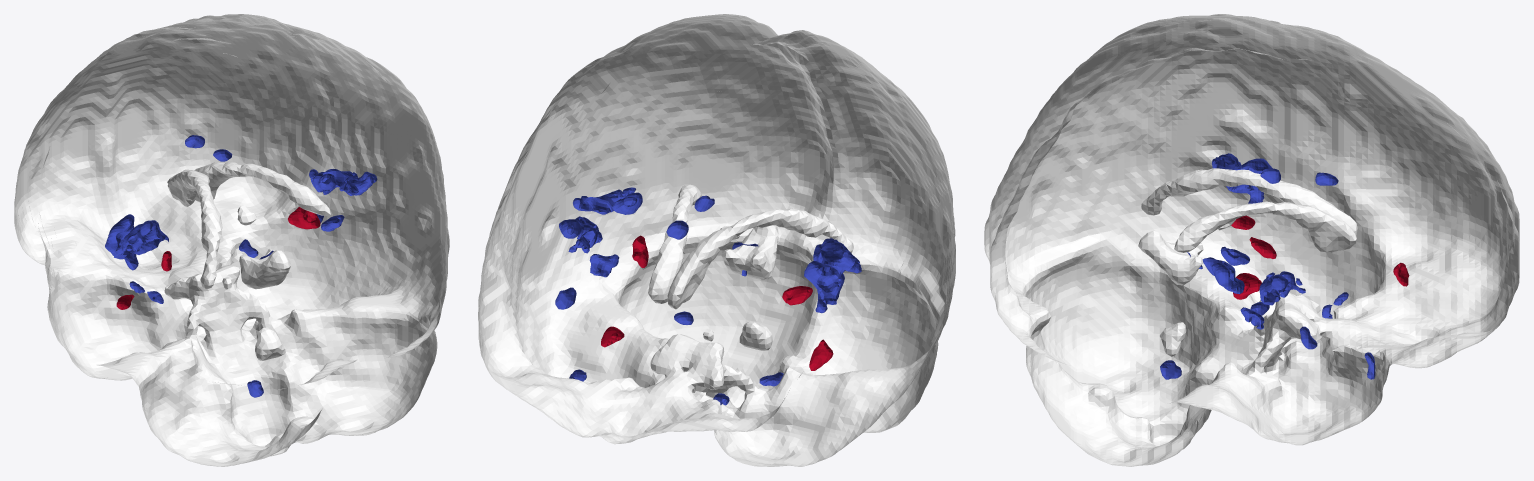
The picture shows the model from 3 angles, left to right: view 1: azimuth 30°, elevation 25°; view 2: azimuth 150°, elevation 25°; view 3: azimuth 270°, elevation 25°; orthographic projection. The views are drawn at different scales.
Visible parts, largest first — view 1: Renderer Node; view 2: Renderer Node; view 3: Renderer Node.
Boxes of the visible parts, left/top/right/bottom form: Renderer Node: left=14, top=14, right=449, bottom=466; Renderer Node: left=478, top=14, right=955, bottom=466; Renderer Node: left=984, top=14, right=1519, bottom=466.
Bounding box in the file's own units: 144 × 152 × 180.
Materials: 2 (2 with a texture image).
